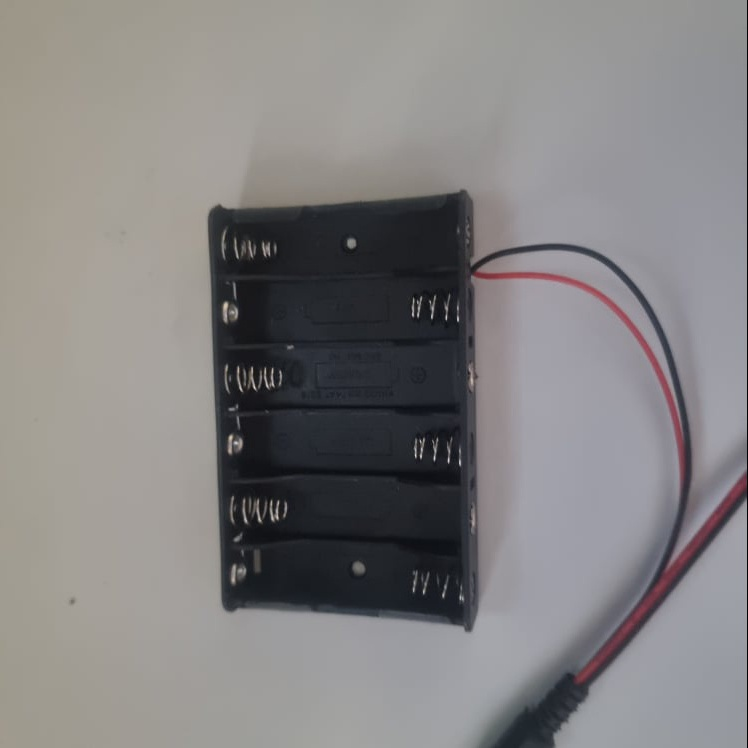BATTERY BOX: (207, 187, 484, 633)
